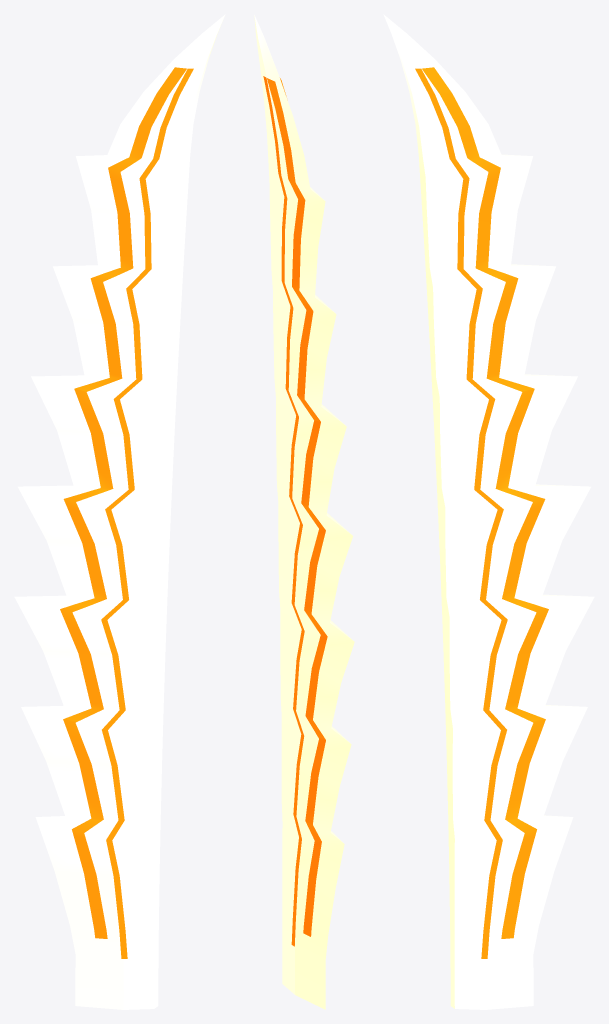
Rendered from blade_inferno.fbx.
3 views of the same model, side by side, from view 1: azimuth 90°, elevation 25°; view 2: azimuth 210°, elevation 25°; view 3: azimuth 270°, elevation 25° (orthographic). The views are drawn at different scales.
Visible parts, largest first — view 1: blade_inferno_blade, blade_inferno_glow; view 2: blade_inferno_blade, blade_inferno_glow; view 3: blade_inferno_blade, blade_inferno_glow.
Boxes of the visible parts, x1,y1,x2,y2 form: blade_inferno_blade: [14, 14, 225, 1009]; blade_inferno_glow: [60, 67, 193, 958]; blade_inferno_blade: [254, 15, 354, 1009]; blade_inferno_glow: [263, 76, 327, 946]; blade_inferno_blade: [383, 14, 594, 1009]; blade_inferno_glow: [415, 67, 548, 958].
Size of the model in its own units: 8.58 by 422 by 81.53.
